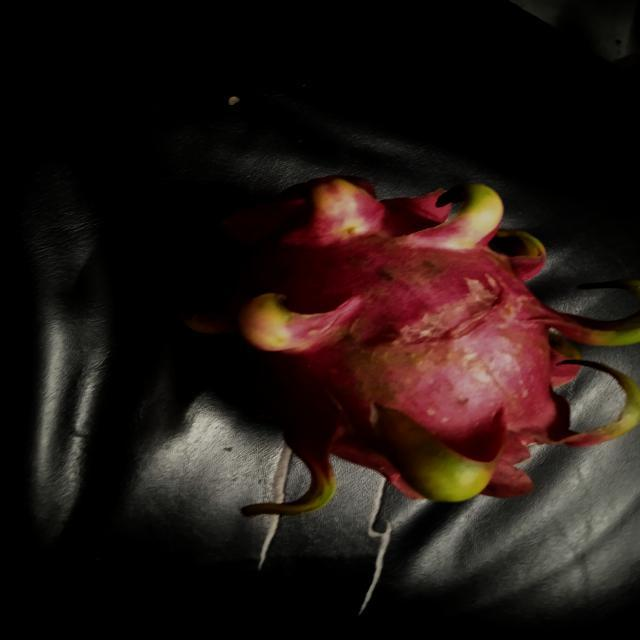do: (189, 176, 639, 520)
